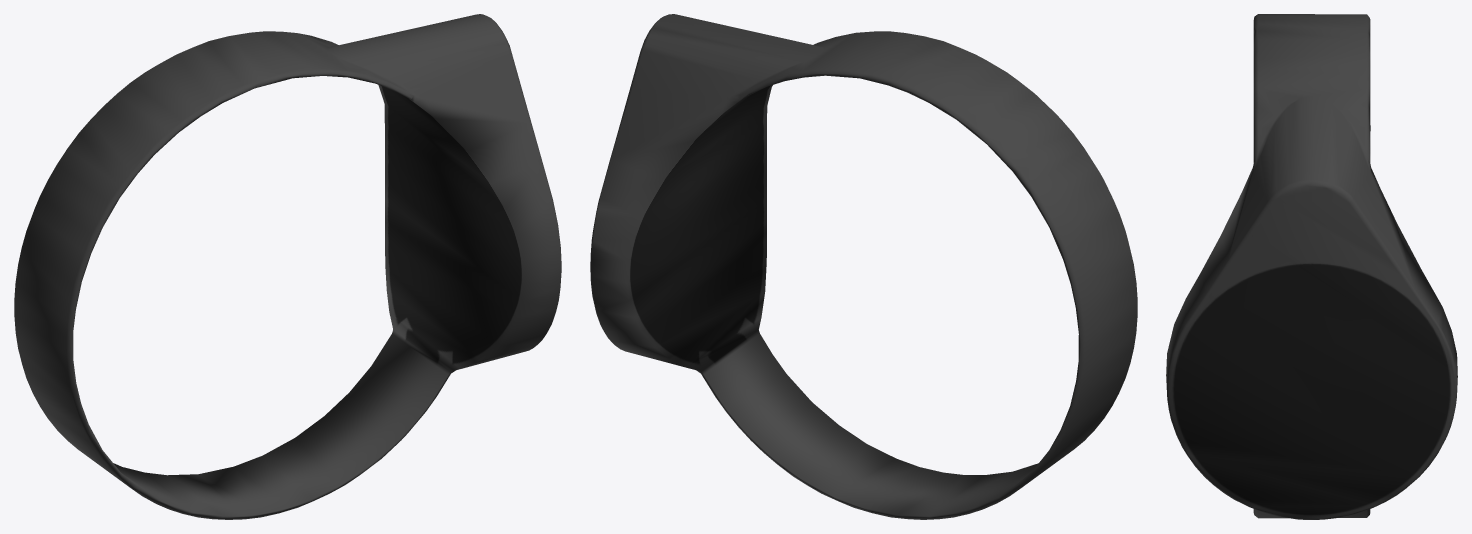
Rendered from elbow_flex.obj.
The picture shows the model from 3 angles, left to right: view 1: azimuth 30°, elevation 25°; view 2: azimuth 150°, elevation 25°; view 3: azimuth 270°, elevation 25°; orthographic projection. The views are drawn at different scales.
Visible parts, largest first — view 1: SM_elbow_flex_M; view 2: SM_elbow_flex_M; view 3: SM_elbow_flex_M.
Part boxes in pixels (<box>): SM_elbow_flex_M: <box>14,14,561,519</box>; SM_elbow_flex_M: <box>590,14,1137,519</box>; SM_elbow_flex_M: <box>1166,14,1457,519</box>.
Bounding box in the file's own units: 0.1725 × 0.16 × 0.0925.
Materials: 1 (1 with a texture image).
